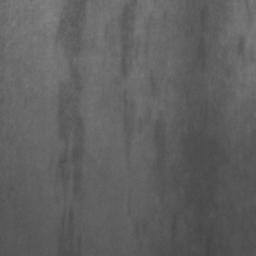Inclusion: (56, 0, 88, 256)
